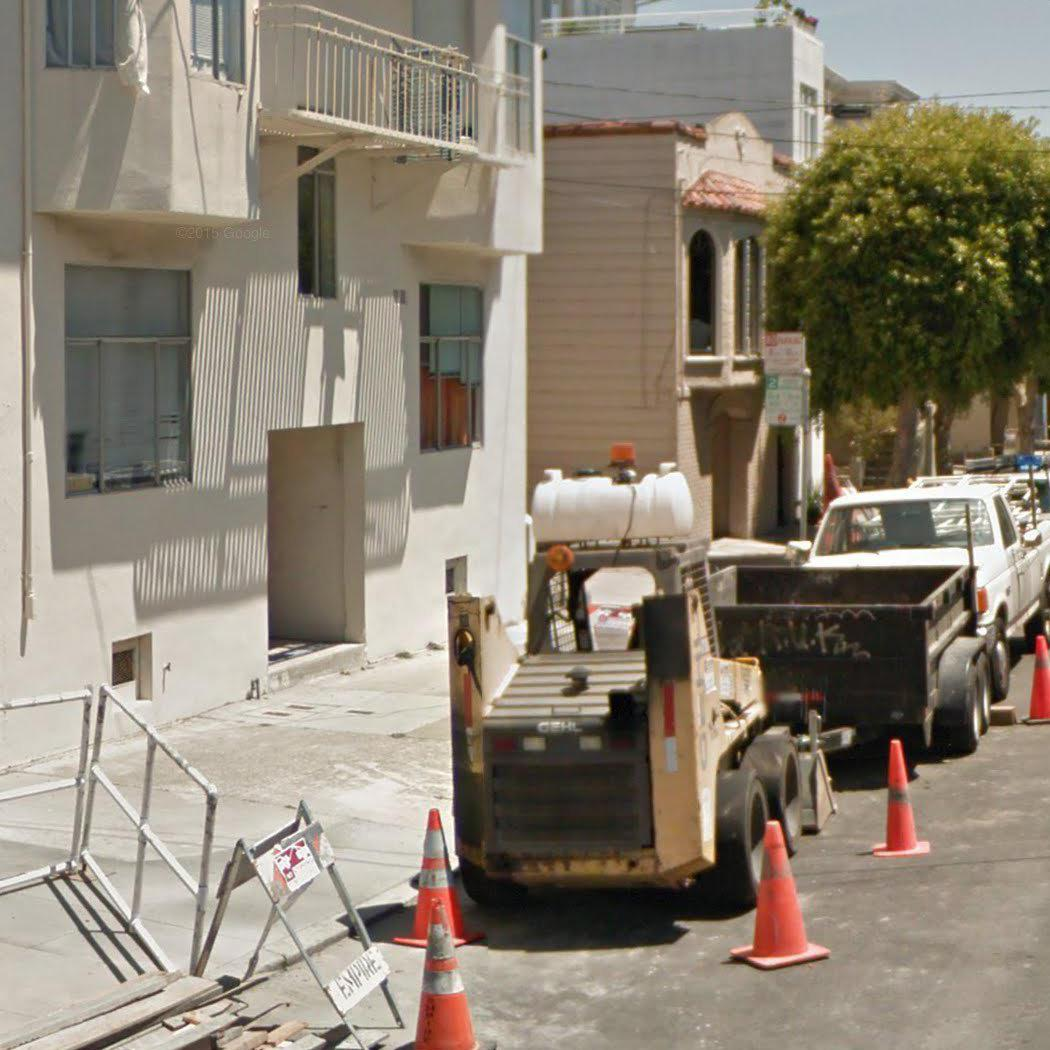2 Hour Parking: (760, 377, 808, 428)
No Parking: (759, 330, 807, 376)
